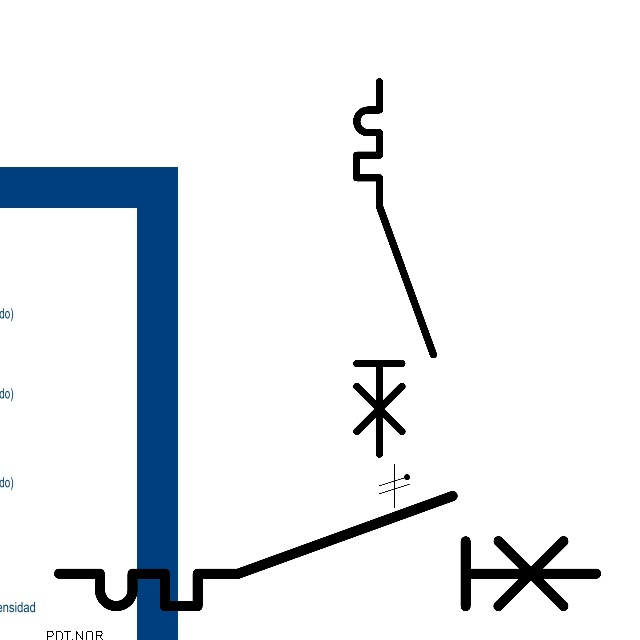interruptor_termomagnetico: (45, 482, 610, 620), (347, 72, 443, 464)
